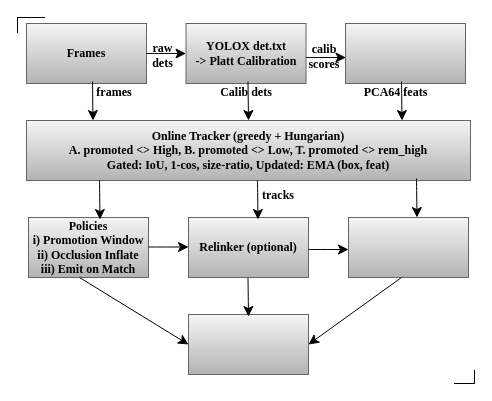
Some shapes in this 492 by 401 pixel diagram are drawn without their labels. The centre of each missing label's shape, as x and y in pixels:
"Artifacts" goes at (x=248, y=344).
"MOTMetrics (IDF1, MOTA, MOTP, IDSW)" goes at (x=408, y=247).
"ReID HSV128 -> PCA64 (fits on train)" goes at (x=405, y=53).
